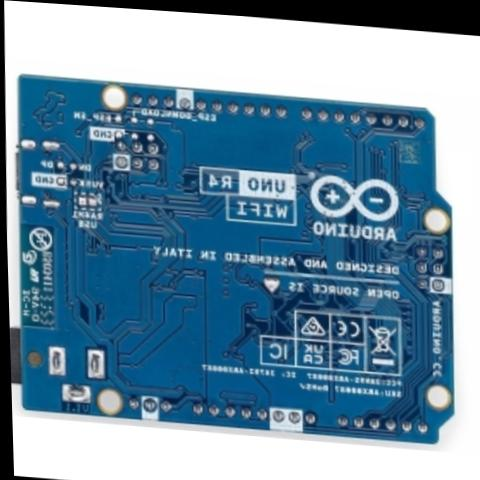Arduino-Uno: (1, 56, 480, 448)
